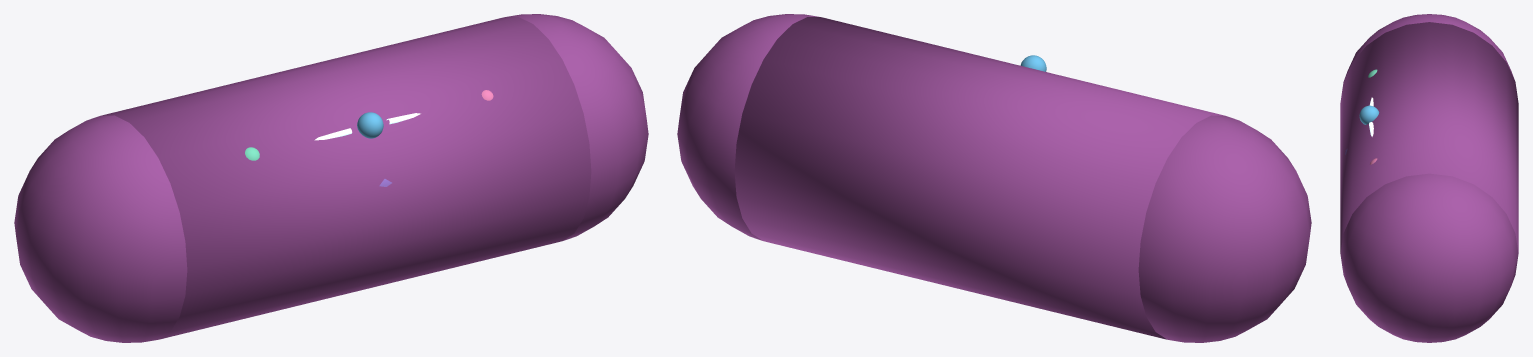
The model's file is muscle-cell.glb.
3 views of the same model, side by side, from view 1: azimuth 30°, elevation 25°; view 2: azimuth 150°, elevation 25°; view 3: azimuth 270°, elevation 25° (orthographic). The views are drawn at different scales.
Visible parts, largest first — view 1: Sarcolemma, mTOR_Mesh; view 2: Sarcolemma; view 3: Sarcolemma, mTOR_Mesh.
Part boxes in pixels (x1=…): Sarcolemma: x1=14, y1=14, x2=648, y2=342; mTOR_Mesh: x1=357, y1=112, x2=383, y2=138; Sarcolemma: x1=677, y1=14, x2=1311, y2=342; Sarcolemma: x1=1340, y1=14, x2=1518, y2=342; mTOR_Mesh: x1=1359, y1=105, x2=1379, y2=124.
Bounding box in the file's own units: 8.08 × 2.68 × 2.68.
